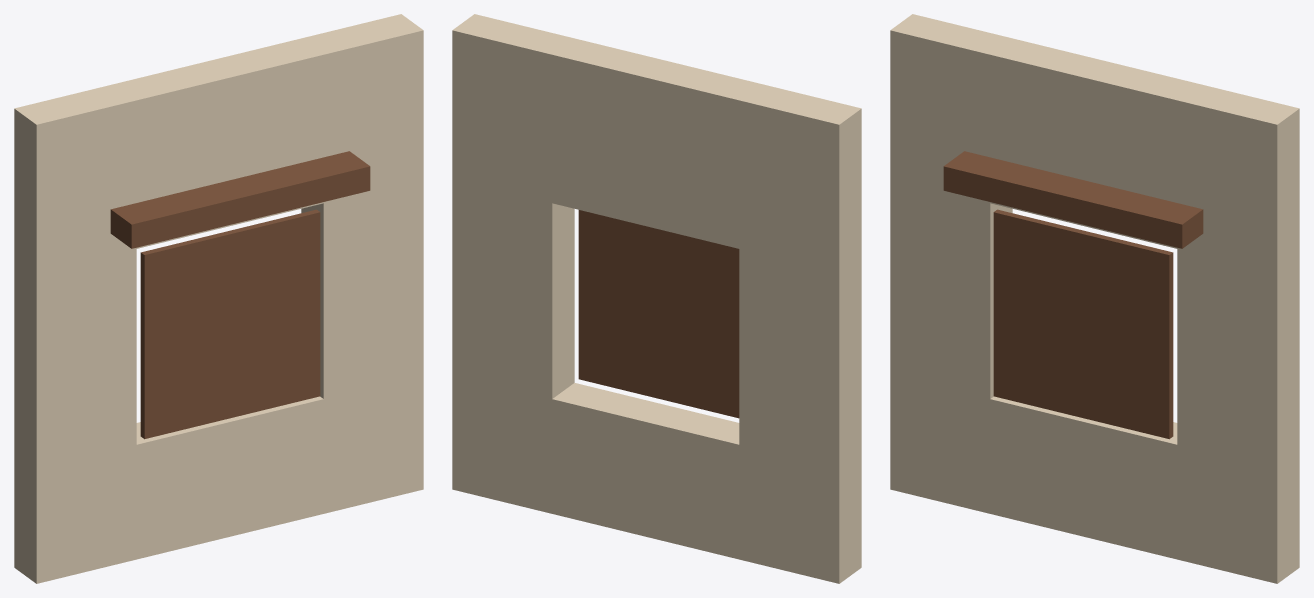
Rendered from bh_traditional_projecting_window_01_lod0.glb.
3 views of the same model, side by side, from view 1: azimuth 30°, elevation 25°; view 2: azimuth 150°, elevation 25°; view 3: azimuth 330°, elevation 25° (orthographic).
Visible parts, largest first — view 1: bh_traditional_projecting_window_01_left, bh_traditional_projecting_window_01_right, bh_traditional_projecting_window_01_infill, bh_traditional_projecting_window_01_top, bh_traditional_projecting_window_01_sill, bh_traditional_projecting_window_01_hood; view 2: bh_traditional_projecting_window_01_left, bh_traditional_projecting_window_01_right, bh_traditional_projecting_window_01_top, bh_traditional_projecting_window_01_infill, bh_traditional_projecting_window_01_sill; view 3: bh_traditional_projecting_window_01_right, bh_traditional_projecting_window_01_left, bh_traditional_projecting_window_01_infill, bh_traditional_projecting_window_01_top, bh_traditional_projecting_window_01_sill, bh_traditional_projecting_window_01_hood.
Boxes of the visible parts, x1,y1,x2,y2 form: bh_traditional_projecting_window_01_left: [14, 84, 136, 583]; bh_traditional_projecting_window_01_right: [301, 14, 423, 513]; bh_traditional_projecting_window_01_infill: [140, 209, 320, 439]; bh_traditional_projecting_window_01_top: [114, 38, 323, 248]; bh_traditional_projecting_window_01_sill: [136, 396, 323, 559]; bh_traditional_projecting_window_01_hood: [110, 151, 370, 248]; bh_traditional_projecting_window_01_left: [739, 84, 861, 583]; bh_traditional_projecting_window_01_right: [452, 14, 574, 513]; bh_traditional_projecting_window_01_top: [552, 38, 761, 248]; bh_traditional_projecting_window_01_infill: [578, 210, 739, 418]; bh_traditional_projecting_window_01_sill: [552, 383, 739, 559]; bh_traditional_projecting_window_01_right: [1177, 84, 1299, 583]; bh_traditional_projecting_window_01_left: [890, 14, 1012, 513]; bh_traditional_projecting_window_01_infill: [993, 209, 1173, 439]; bh_traditional_projecting_window_01_top: [990, 38, 1199, 248]; bh_traditional_projecting_window_01_sill: [990, 396, 1177, 559]; bh_traditional_projecting_window_01_hood: [943, 151, 1203, 248].
Bounding box in the file's own units: 3 × 3.4 × 0.58.
